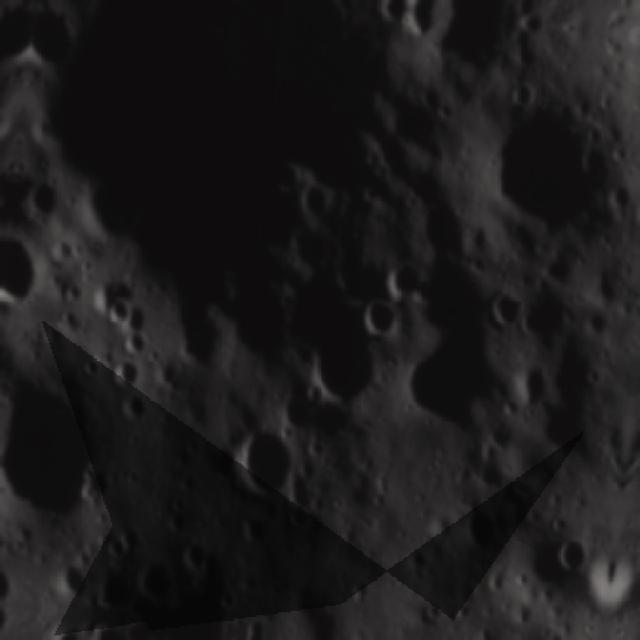crater: (0, 0, 460, 382), (478, 86, 625, 237), (0, 365, 106, 530), (223, 416, 305, 506), (0, 232, 49, 312), (28, 0, 82, 71), (88, 273, 147, 335), (456, 498, 506, 558), (132, 552, 177, 614), (89, 562, 138, 618), (385, 244, 427, 305), (44, 547, 91, 601), (548, 524, 595, 578), (177, 522, 221, 578), (353, 288, 396, 343), (295, 177, 336, 226), (230, 509, 275, 553), (106, 354, 152, 397), (27, 168, 68, 214), (514, 361, 552, 408), (481, 287, 524, 328), (122, 389, 156, 428), (510, 597, 538, 629), (421, 592, 447, 623), (0, 562, 18, 605), (450, 598, 475, 624)
